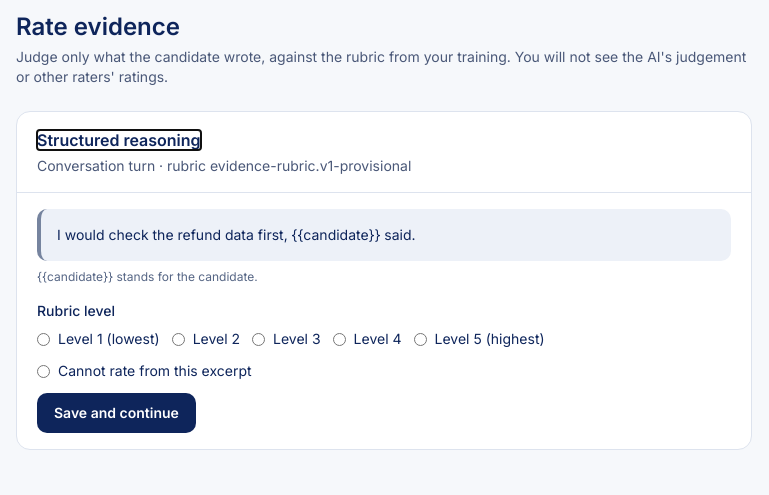
Test: Evidence rating page › shows one blinded item and saves a level with the rater token
Expected: the text with test id "evidence-excerpt" shows "I would check the refund data first", left=57, top=226, right=416, bottom=243
Expected: the text "{{candidate}} stands for the candidate." is shown, left=37, top=269, right=258, bottom=284
Click the button "Save and continue" at [116, 413], box left=37, top=393, right=196, bottom=433
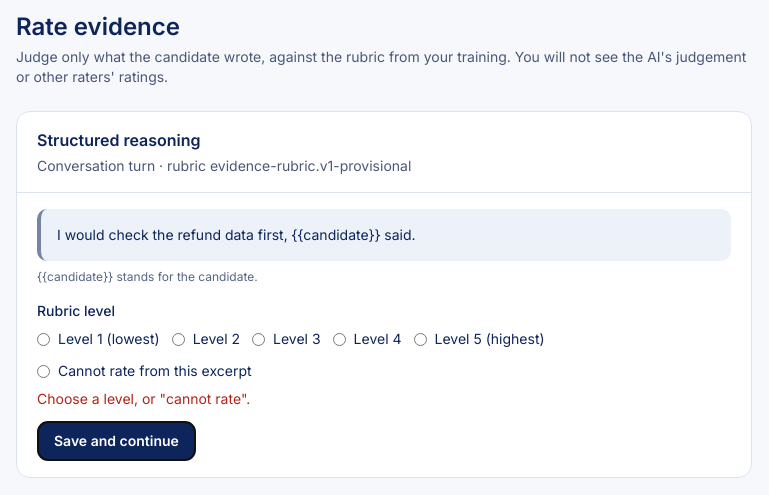
Click the radio button labelled "Level 3" at [259, 339], box left=252, top=332, right=265, bottom=346
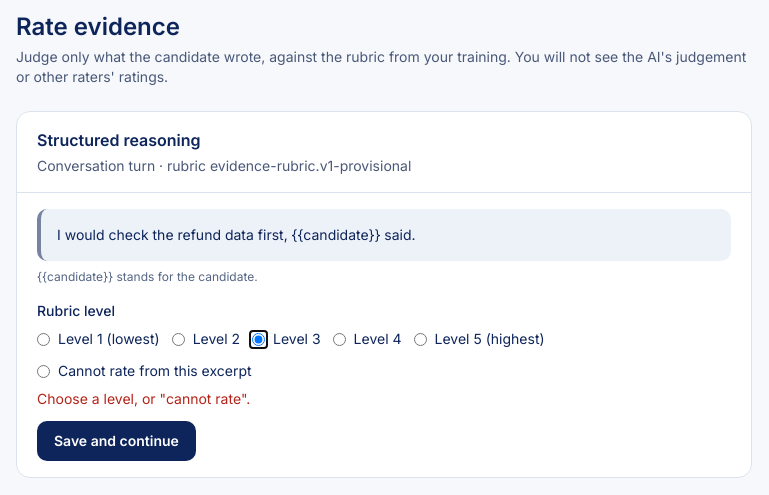
Click the button "Save and continue" at [116, 441], box left=37, top=421, right=196, bottom=461
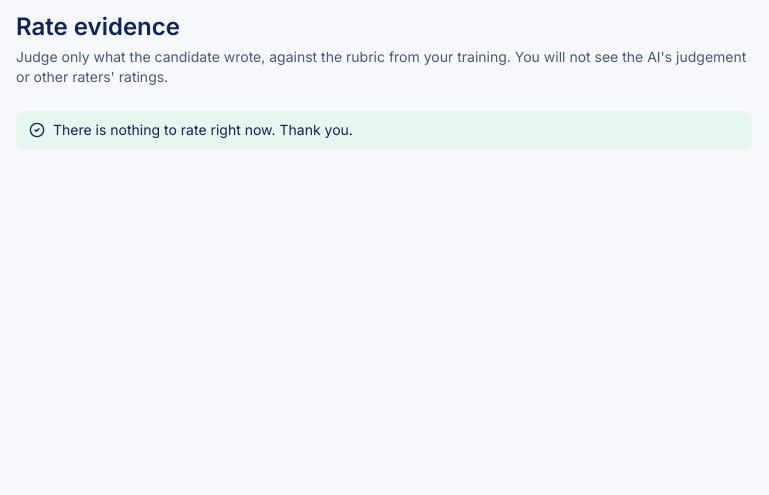
Now the text "There is nothing to rate right now. Thank you." is shown, box left=53, top=120, right=353, bottom=140
